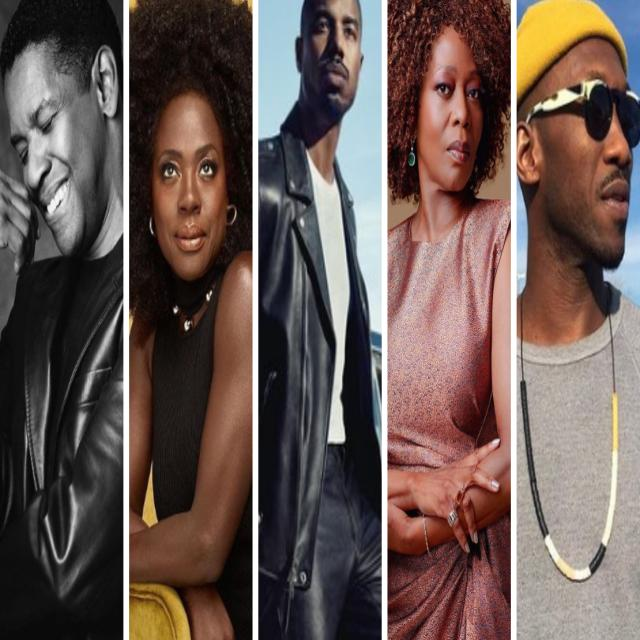sem_oculos: (524, 81, 636, 149), (9, 95, 114, 148), (415, 53, 506, 111), (153, 140, 230, 193), (297, 16, 373, 54)
